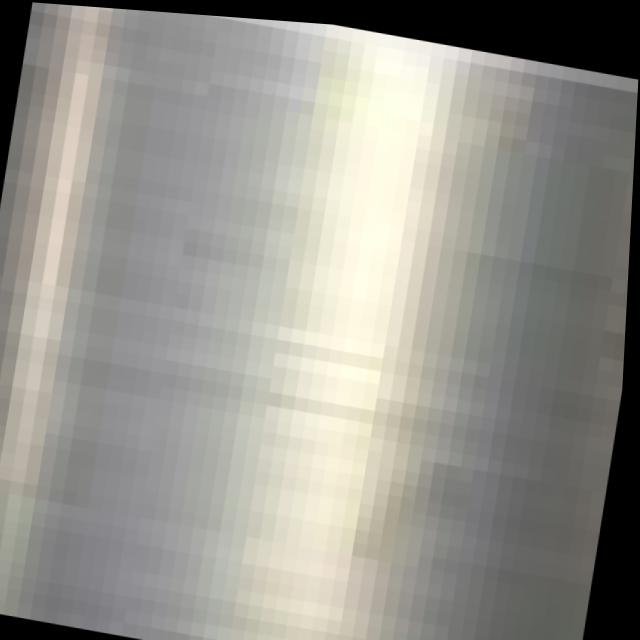metal-plates: (1, 3, 640, 640)
